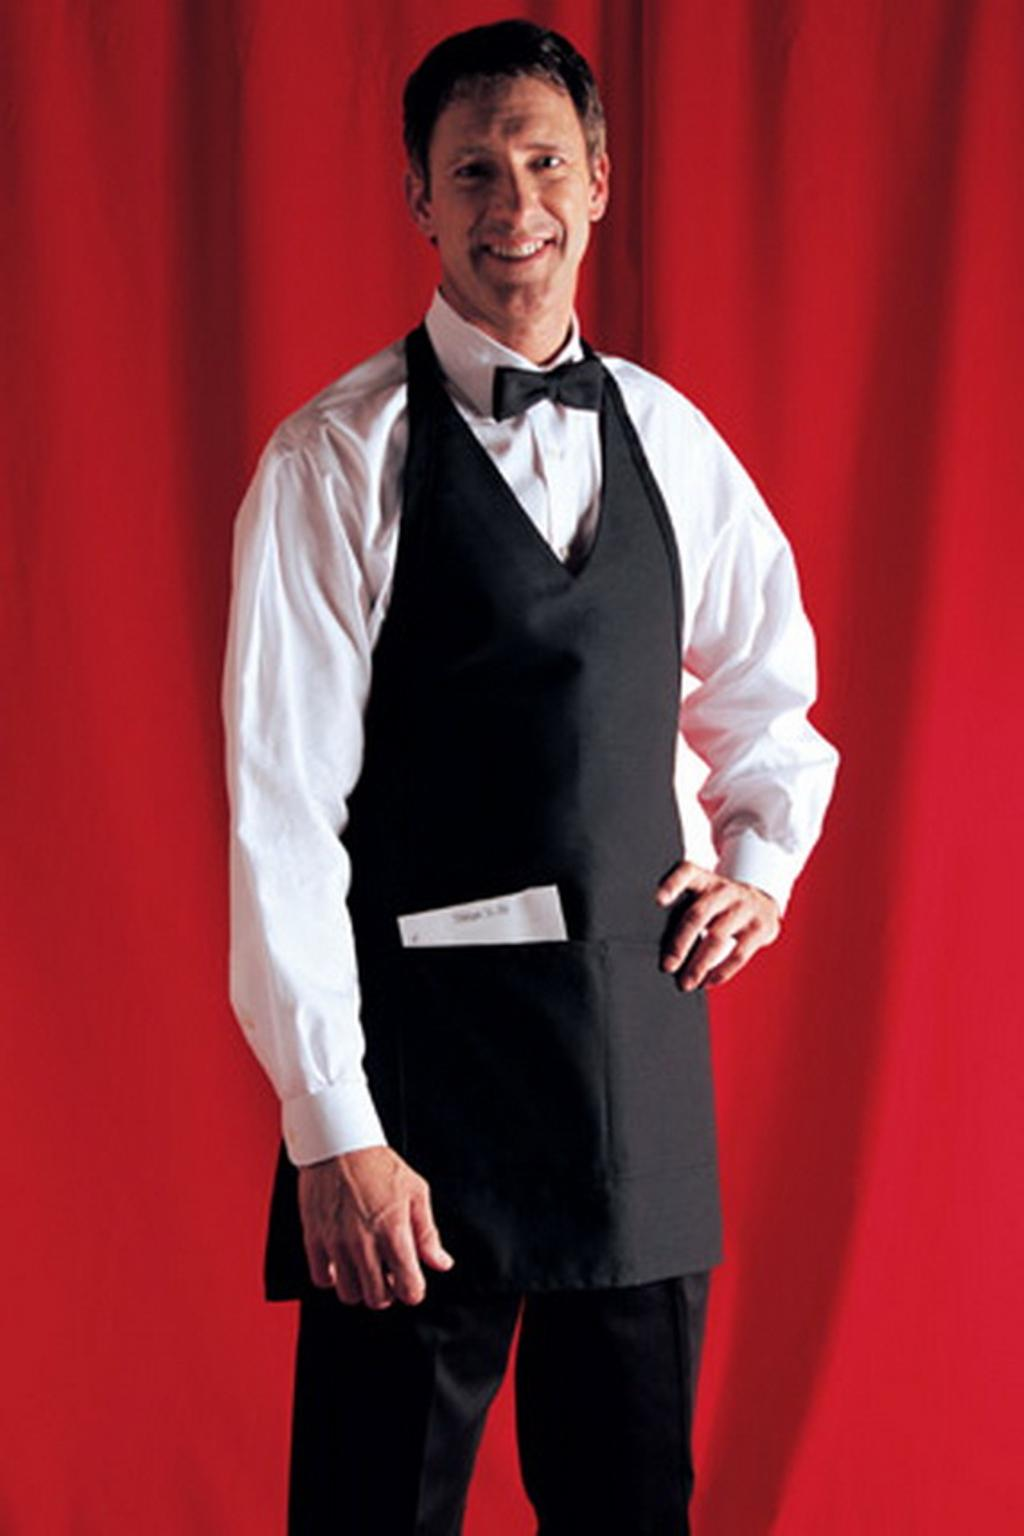face: (420, 57, 588, 324)
